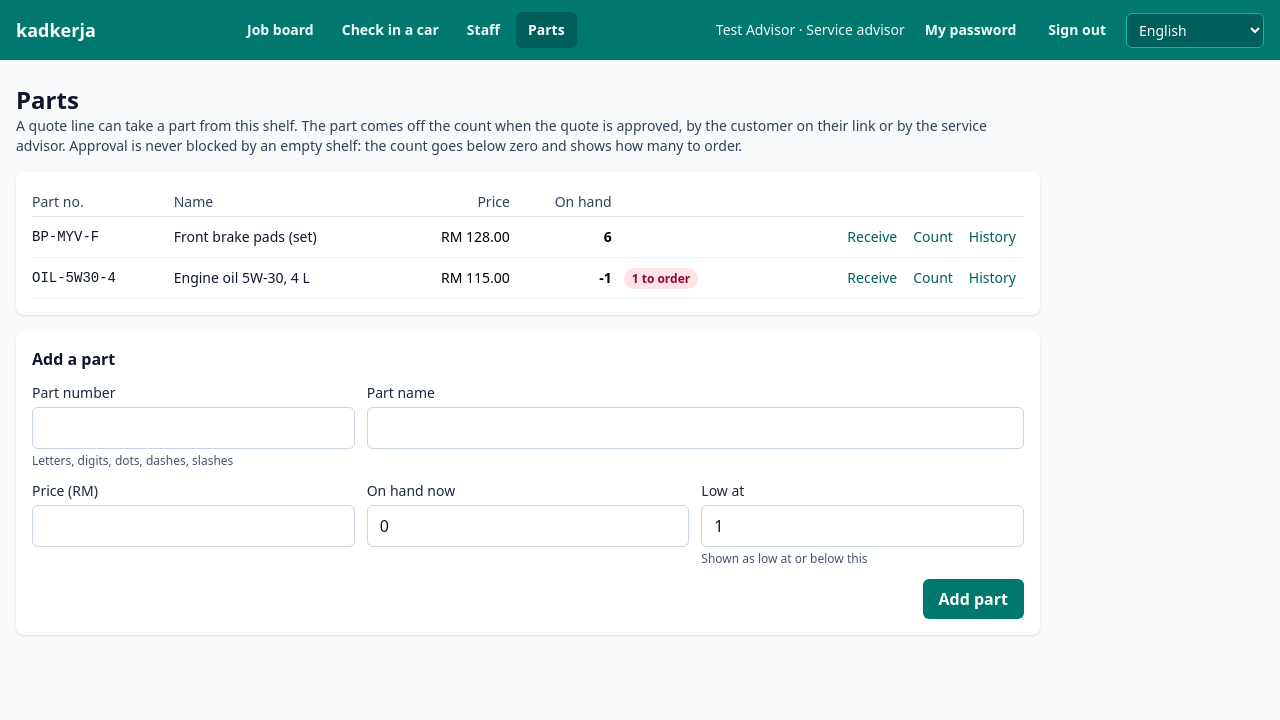
Test: Parts page › a stocktake starts from the current count (zero when below zero)
This screenshot has width=1280, height=720.
Later steps or results of the test are not shown.
Check: the table is shown, box 32,188 -> 1024,299
Click the button with aria-label "Count OIL-5W30-4": x=933, y=278 905,264 -> 961,292
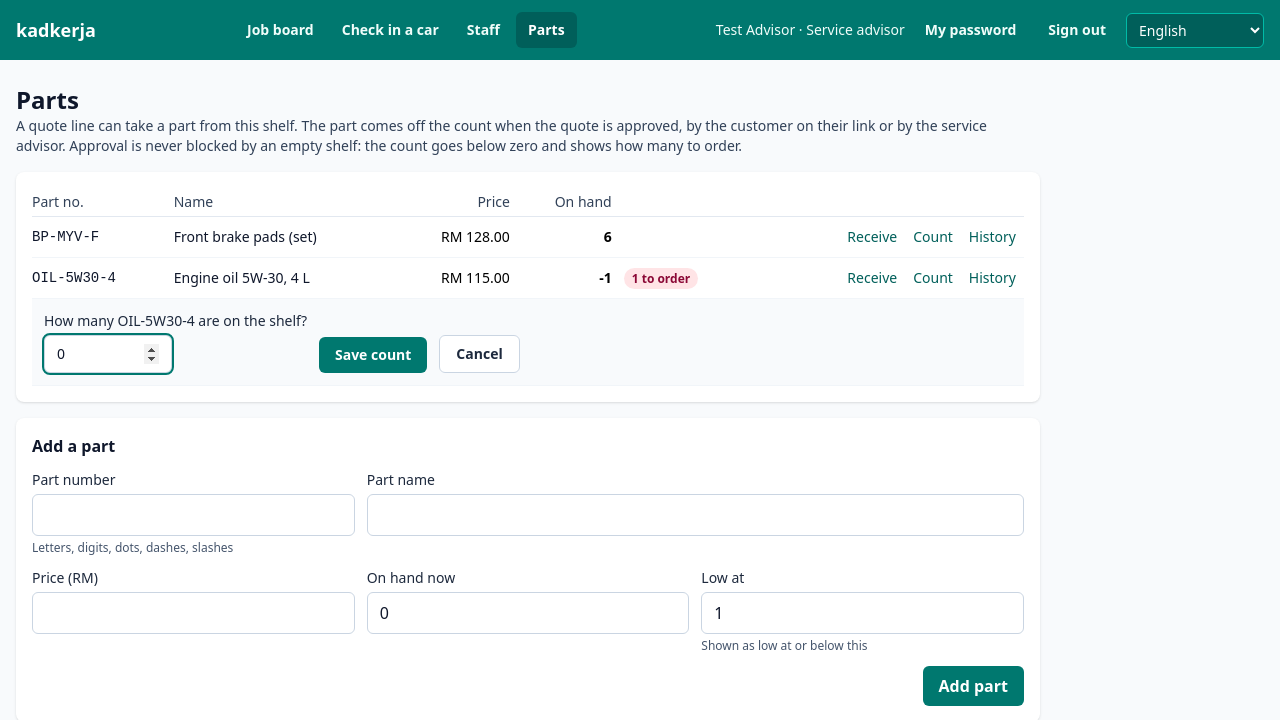
Check: the number field labelled "How many OIL-5W30-4 are on the shelf?" holds "0", box 44,335 -> 172,373
